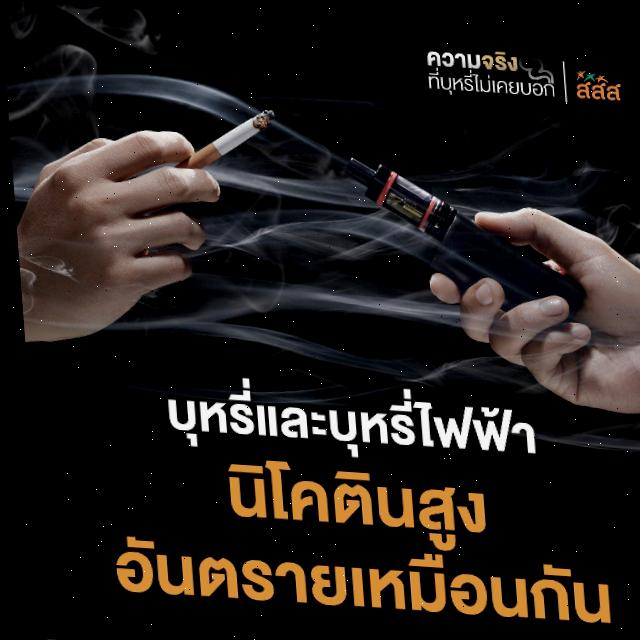cigarette: (166, 99, 278, 171)
vape: (340, 150, 584, 313)
